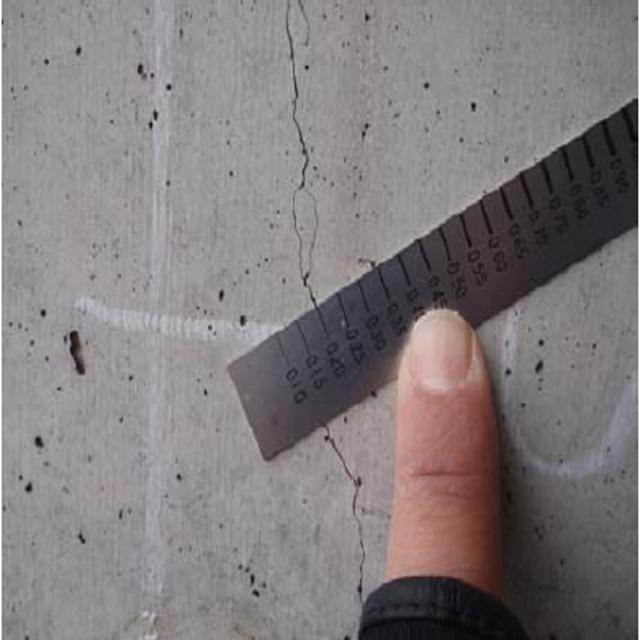crack: (254, 0, 341, 301), (314, 443, 380, 626)
